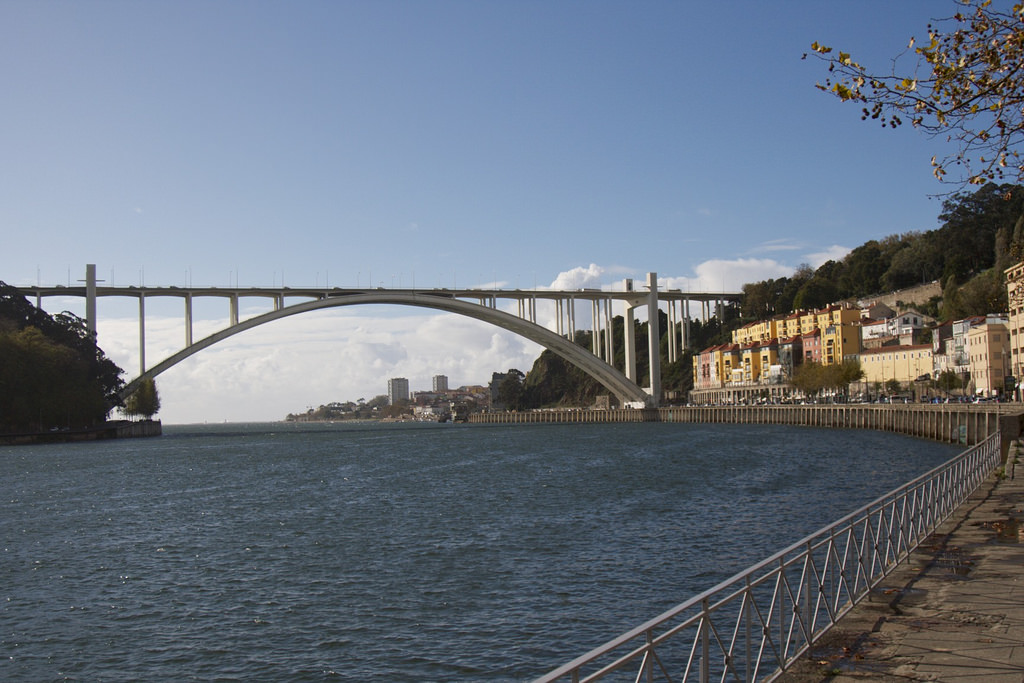arrabida: (0, 262, 739, 408)
